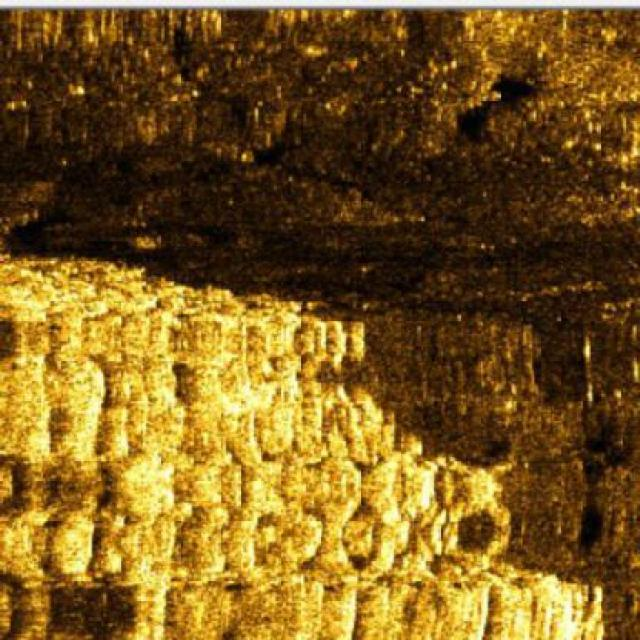bedrock group: (0, 255, 609, 639)
